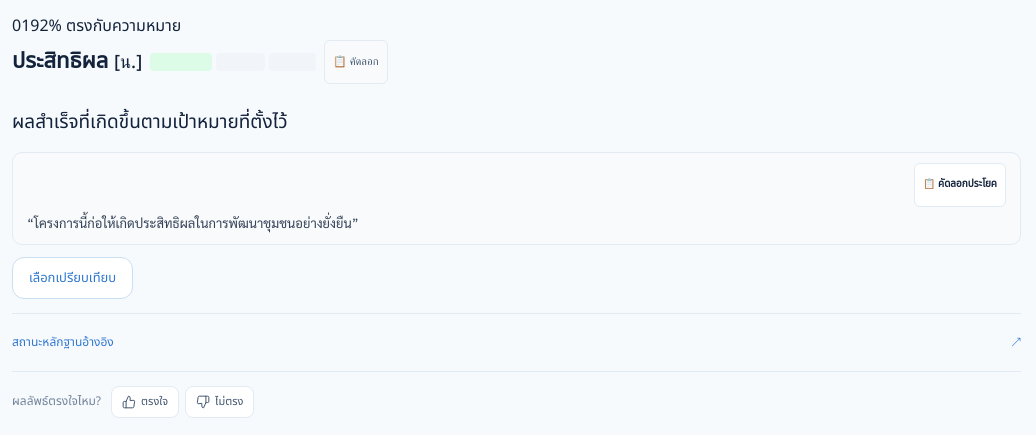
Test: Product Excellence Enhancements › 2. In-Sentence Word Swap and 1-Click Copy in WordResultCard › renders copy word button and in-sentence word swap box
Click the button with aria-label "คัดลอกคำว่า ประสิทธิผล" at (356, 62), box [324,40,388,84]
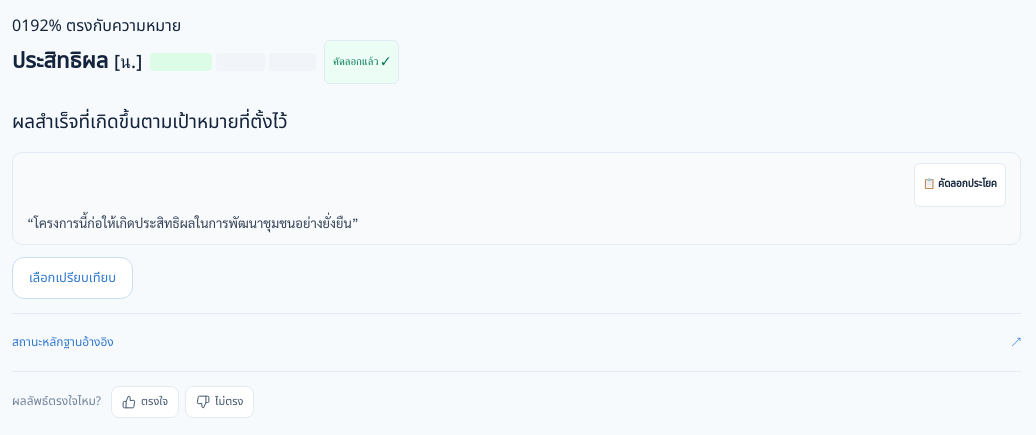
Expected: the text "“โครงการนี้ก่อให้เกิดประสิทธิผลในการพัฒนาชุมชนอย่างยั่งยืน”" is shown, [27,214,359,231]
Expected: the button "คัดลอกแล้ว ✓" is shown, [324,40,399,84]
Click the button "📋 คัดลอกประโยค" at (960, 185), box [914,163,1006,207]
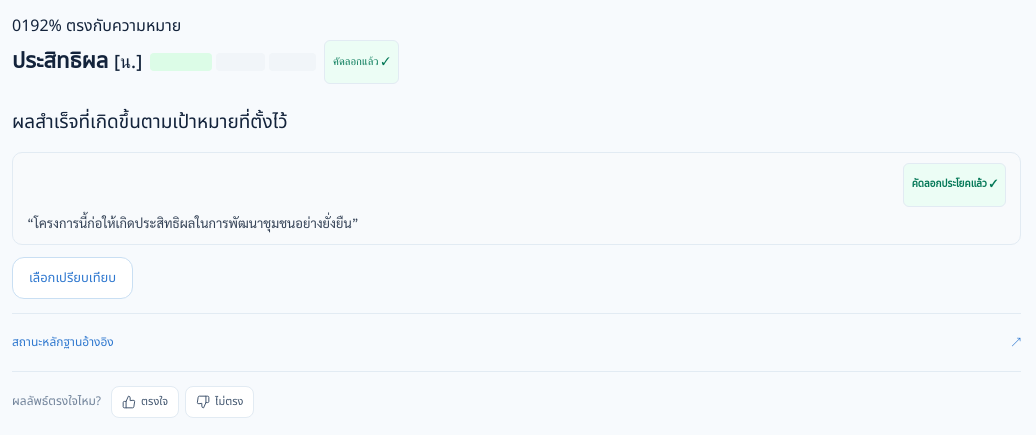
Expected: the button "คัดลอกประโยคแล้ว ✓" is shown, [903,163,1006,207]
